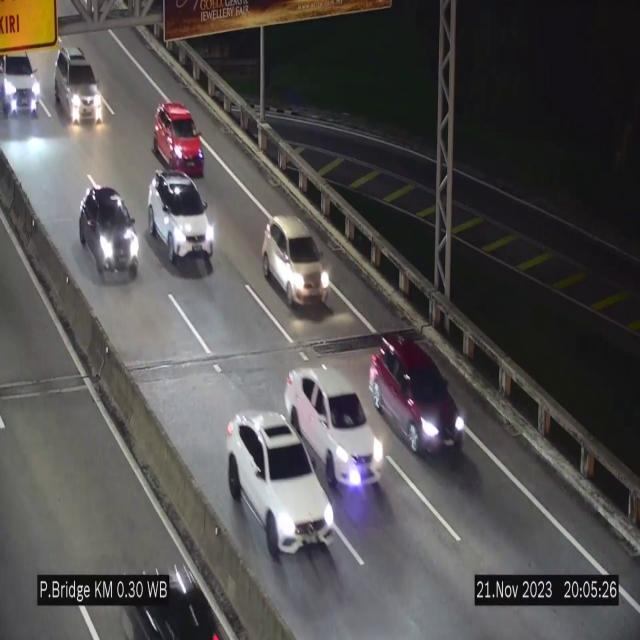Car: (227, 412, 333, 556), (369, 331, 467, 454), (284, 368, 376, 488), (126, 546, 215, 640), (148, 173, 214, 270), (262, 216, 329, 308), (79, 188, 139, 282), (53, 43, 103, 128), (153, 101, 204, 175), (0, 47, 40, 124)
